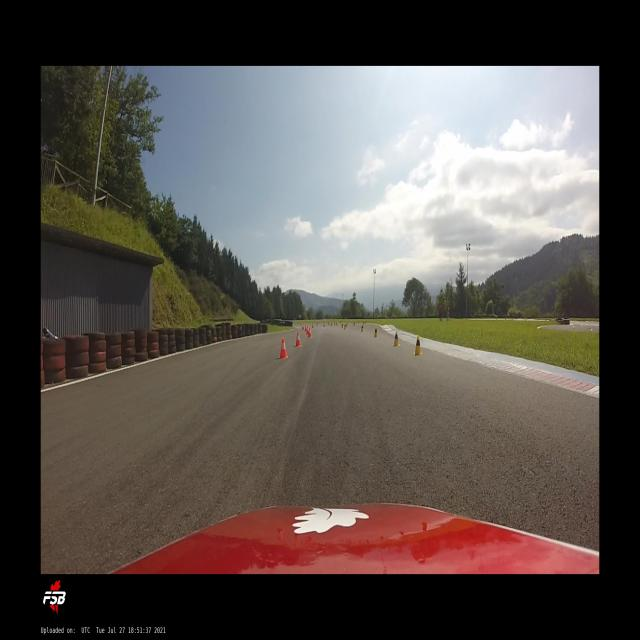orange_cone: (279, 338, 289, 358), (295, 332, 301, 346), (308, 328, 312, 338), (306, 326, 309, 334), (304, 325, 306, 331)
yellow_cone: (414, 335, 422, 355), (393, 332, 400, 346), (373, 328, 378, 338), (361, 325, 364, 332), (344, 324, 347, 329)
